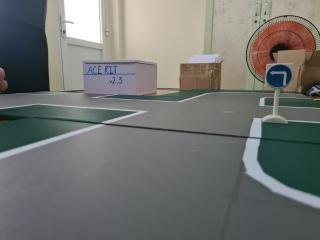left: (263, 59, 295, 95)
